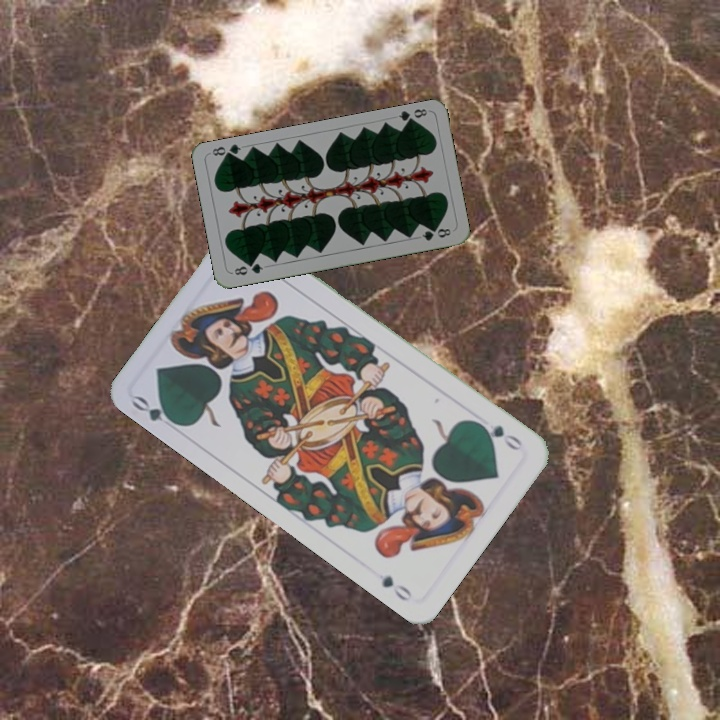G8: (394, 104, 429, 127), (230, 259, 266, 278)
GO: (128, 391, 184, 429), (473, 418, 526, 454)
